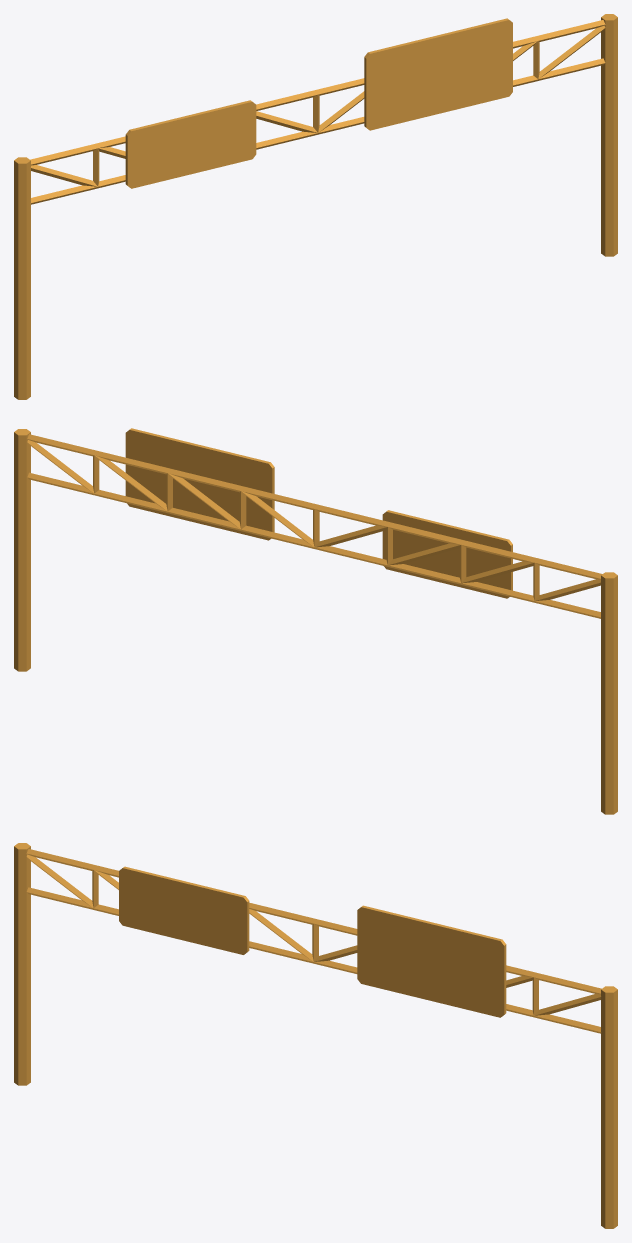
File: mainroad-sign-green.glb
3 renders of one model, top to bottom at view 1: azimuth 30°, elevation 25°; view 2: azimuth 150°, elevation 25°; view 3: azimuth 330°, elevation 25°, orthographic.
Parts seen in each view (by area): view 1: mainroad-sign-green; view 2: mainroad-sign-green; view 3: mainroad-sign-green.
Part boxes in pixels (x1,y1,x2,y2): mainroad-sign-green: [14, 14, 617, 399]; mainroad-sign-green: [14, 428, 617, 814]; mainroad-sign-green: [14, 843, 617, 1228].
Bounding box in the file's own units: 16.35 × 6.83 × 0.4106.
